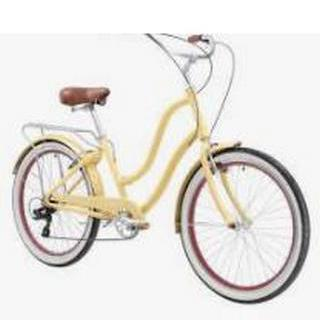Bike: (9, 32, 311, 303)
